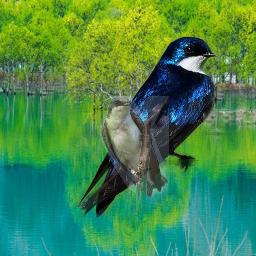Swallow: (76, 36, 218, 218), (101, 96, 169, 198)
